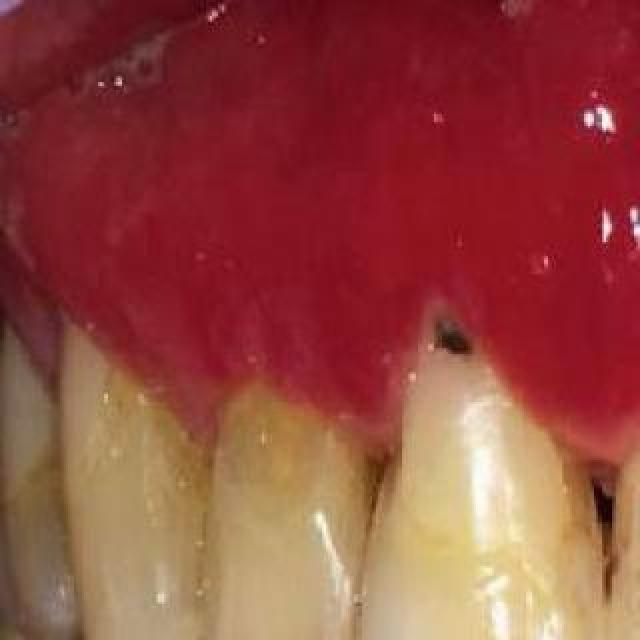calculus: (297, 418, 425, 572)
cavities: (378, 262, 514, 416)
plaque: (60, 355, 198, 581), (500, 424, 640, 626)
